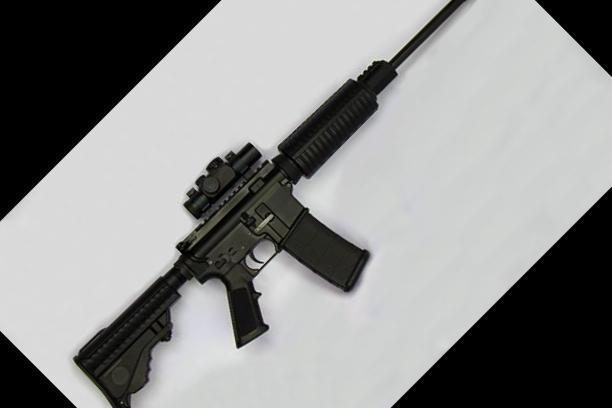larga: (71, 1, 465, 408)
